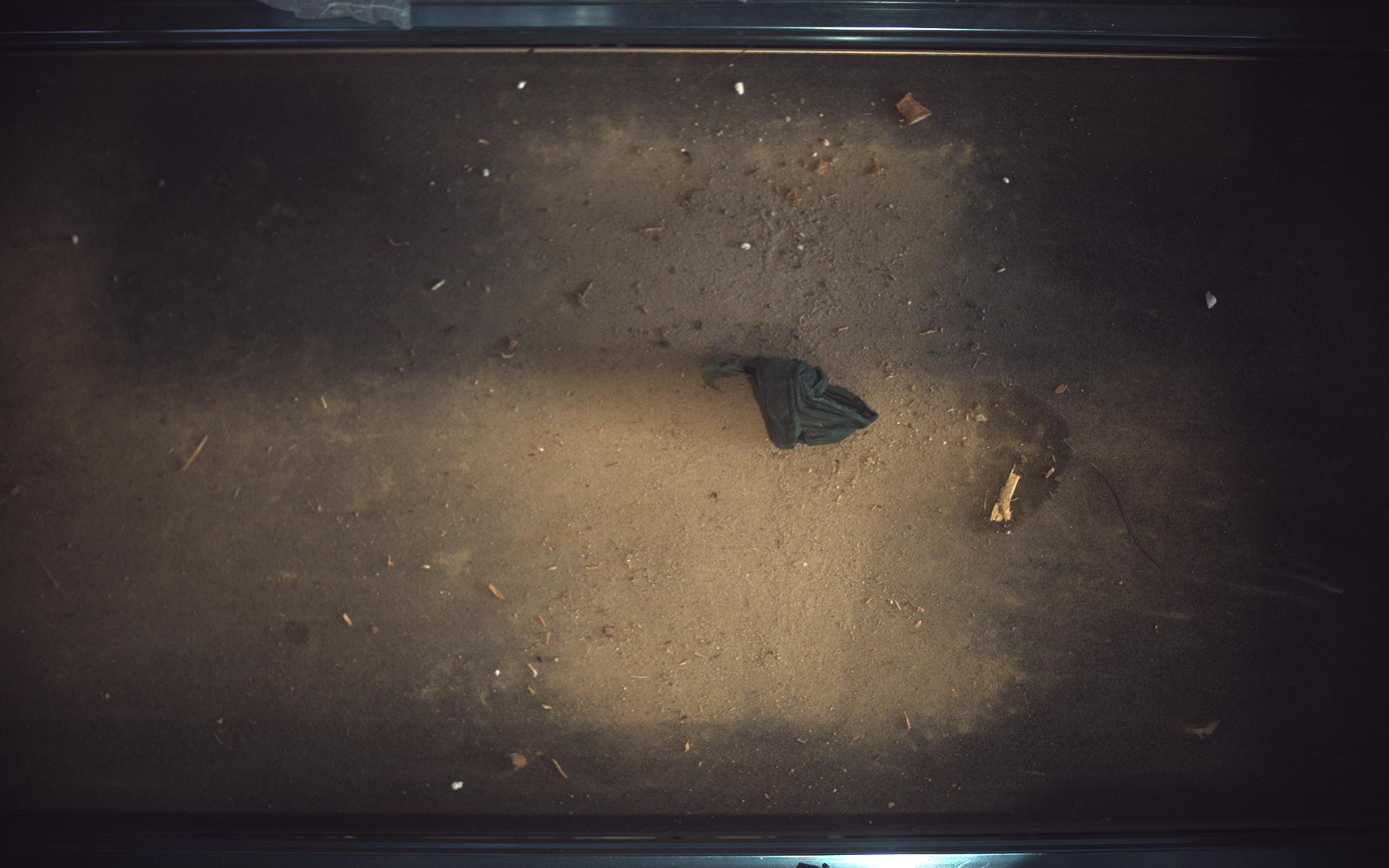general_w: (702, 356, 880, 449)
